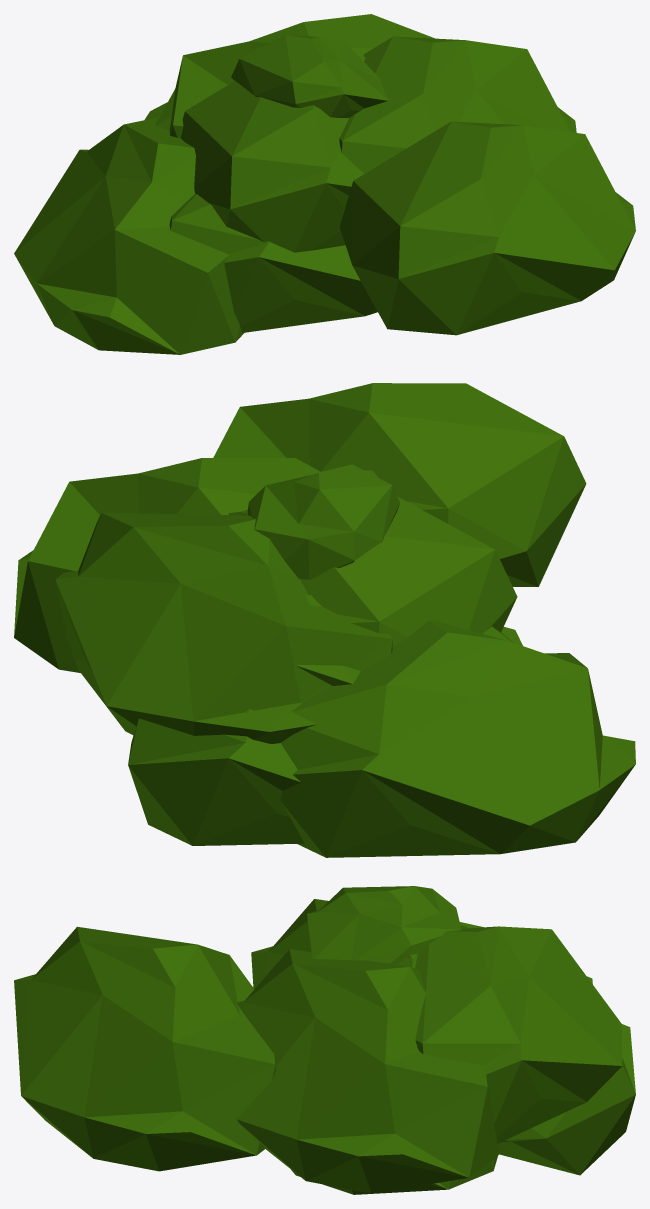
Rendered from bush_6.FBX.
3 renders of one model, top to bottom at view 1: azimuth 30°, elevation 25°; view 2: azimuth 150°, elevation 25°; view 3: azimuth 270°, elevation 25°, orthographic. The views are drawn at different scales.
Parts seen in each view (by area): view 1: bush_6; view 2: bush_6; view 3: bush_6.
Boxes of the visible parts, bbox=[...] form: bush_6: bbox=[14, 14, 635, 354]; bush_6: bbox=[14, 383, 635, 857]; bush_6: bbox=[14, 886, 635, 1194].
Bounding box in the file's own units: 805 × 382 × 819.
